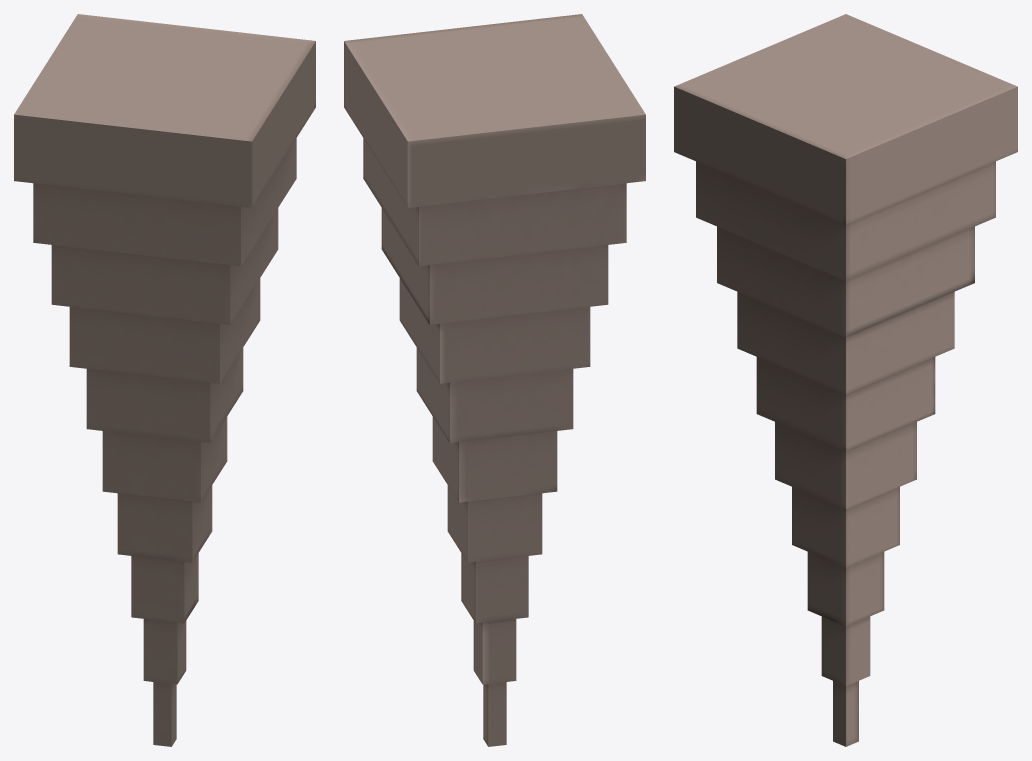
The model's file is dripstone.glb.
3 renders of one model, left to right at view 1: azimuth 30°, elevation 25°; view 2: azimuth 150°, elevation 25°; view 3: azimuth 270°, elevation 25°, orthographic.
Visible parts, largest first — view 1: dripstone; view 2: dripstone; view 3: dripstone.
Part boxes in pixels (bbox=[...]): dripstone: bbox=[14, 14, 315, 746]; dripstone: bbox=[344, 14, 645, 746]; dripstone: bbox=[674, 14, 1017, 746].
Size of the model in its own units: 0.7136 by 1.5 by 0.7136.
Materials: 1 (1 with a texture image).
